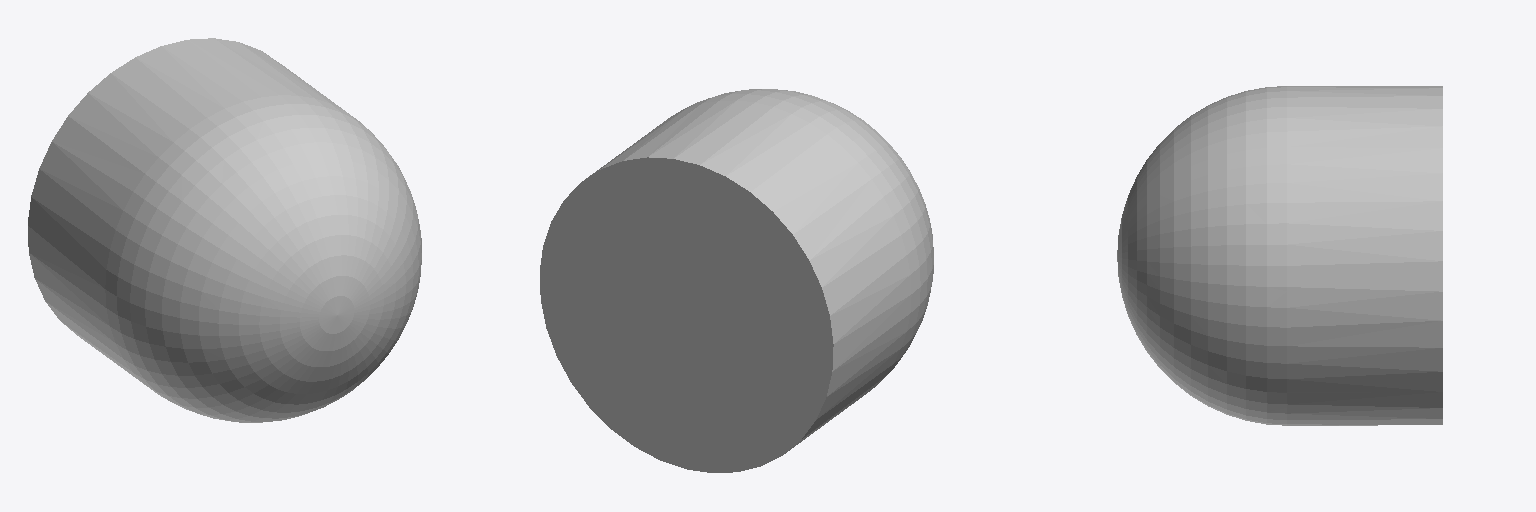
The model's file is link_15.0_tip.obj.
3 renders of one model, left to right at view 1: azimuth 30°, elevation 25°; view 2: azimuth 150°, elevation 25°; view 3: azimuth 270°, elevation 25°, orthographic.
Visible parts, largest first — view 1: link_15_0_tip; view 2: link_15_0_tip; view 3: link_15_0_tip.
Part boxes in pixels (x1,y1,x2,y2): link_15_0_tip: (28,38,421,422); link_15_0_tip: (540,89,933,472); link_15_0_tip: (1117,86,1442,425).
Size of the model in its own units: 0.024 by 0.024 by 0.023.